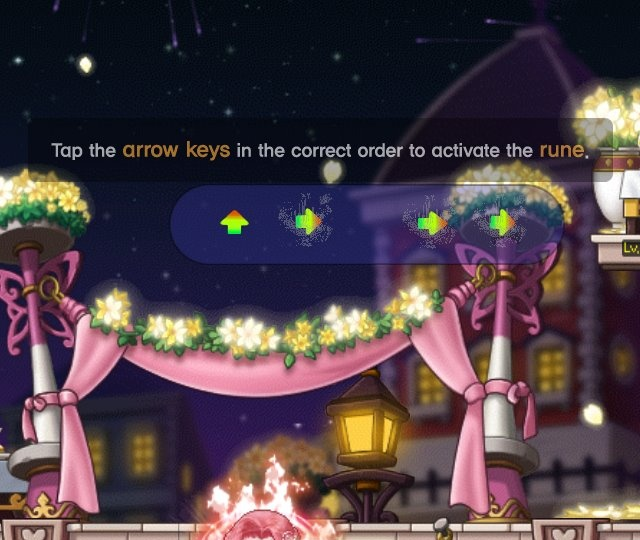right: (481, 201, 526, 245), (409, 208, 455, 244), (290, 205, 327, 237)
up: (215, 204, 252, 242)
